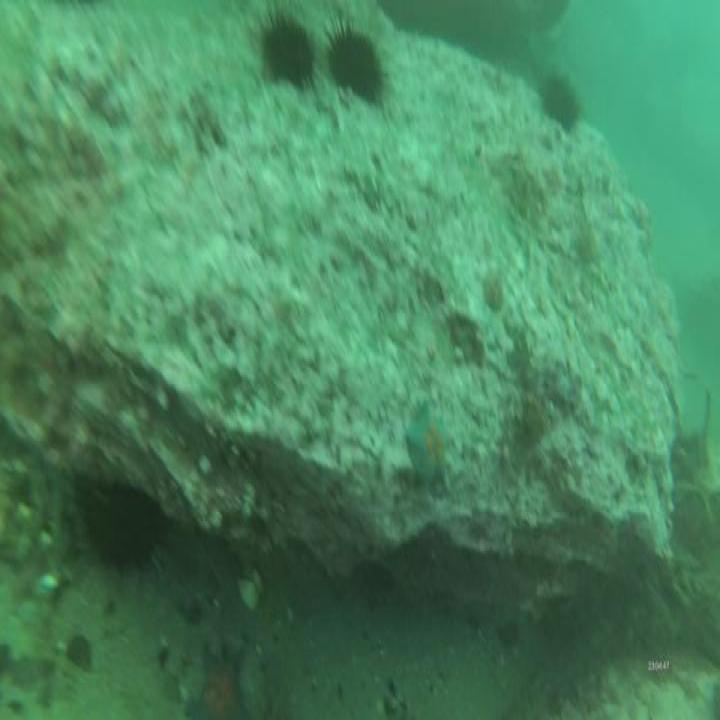echinus: (91, 490, 162, 570), (330, 30, 381, 100), (263, 20, 310, 86), (541, 75, 580, 122)
starfish: (187, 645, 248, 720), (405, 400, 449, 484)
